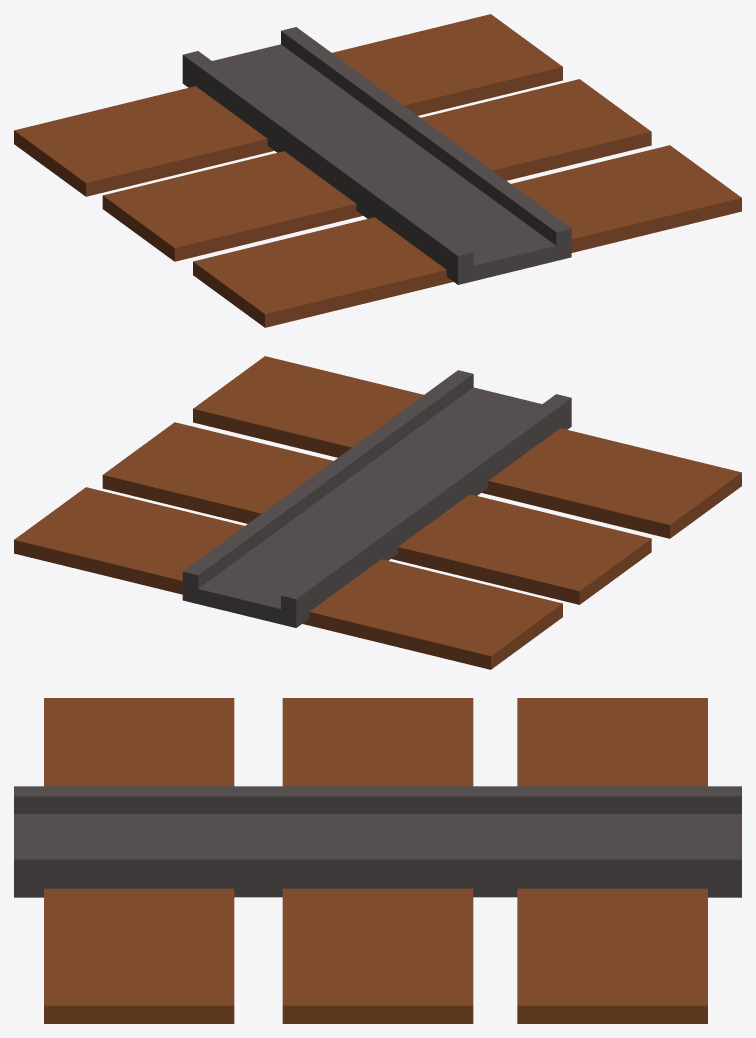
Rendered from Rail_0.fbx.
3 views of the same model, one above another, from view 1: azimuth 30°, elevation 25°; view 2: azimuth 150°, elevation 25°; view 3: azimuth 270°, elevation 25° (orthographic). The views are drawn at different scales.
Visible parts, largest first — view 1: Road_0, woodbar_0, woodbar_1, woodbar_2; view 2: Road_0, woodbar_2, woodbar_1, woodbar_0; view 3: Road_0, woodbar_1, woodbar_2, woodbar_0.
Boxes of the visible parts, <box> form: Road_0: <box>182,27,571,284</box>; woodbar_0: <box>193,145,741,327</box>; woodbar_1: <box>102,79,651,261</box>; woodbar_2: <box>14,14,562,196</box>; Road_0: <box>182,370,571,627</box>; woodbar_2: <box>14,487,562,669</box>; woodbar_1: <box>102,422,651,604</box>; woodbar_0: <box>193,356,741,538</box>; Road_0: <box>14,786,741,897</box>; woodbar_1: <box>282,698,473,1023</box>; woodbar_2: <box>517,698,707,1023</box>; woodbar_0: <box>44,698,234,1023</box>.
Bounding box in the file's own units: 100 × 7.15 × 100.
1 material, 1 textured.
